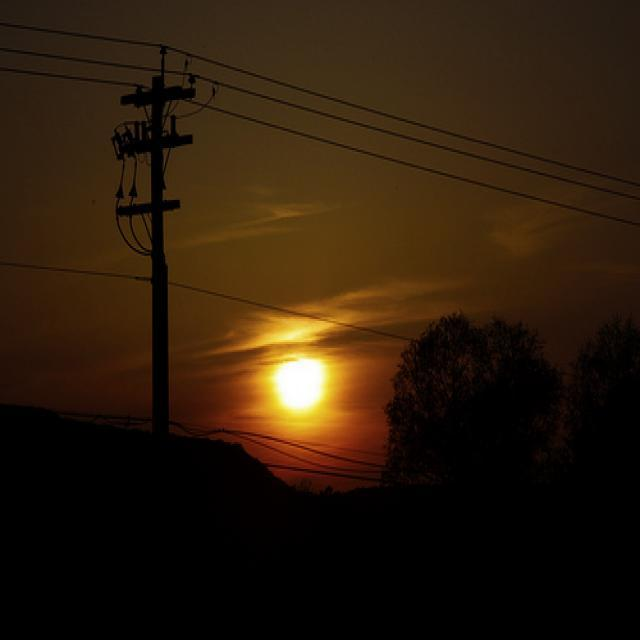crossarm: (115, 113, 194, 157), (123, 74, 197, 109), (118, 198, 181, 219)
pole: (151, 74, 170, 433)
wire: (1, 23, 640, 190), (1, 67, 640, 231), (1, 44, 640, 203), (1, 259, 416, 346), (115, 162, 150, 258), (127, 154, 147, 251)
